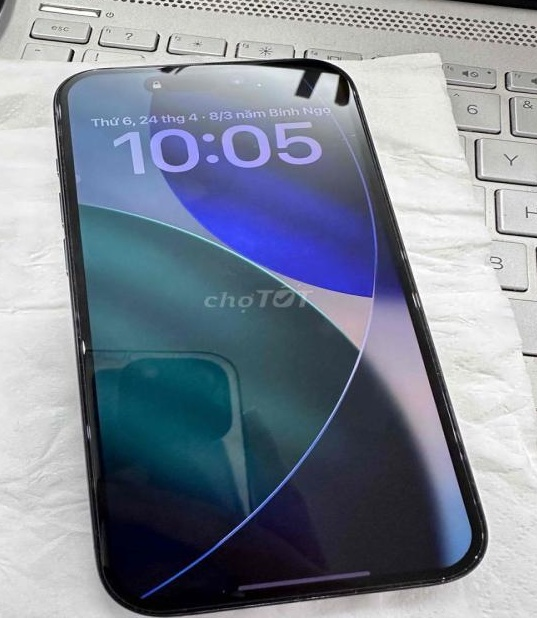scratch: (198, 575, 470, 613), (46, 125, 80, 295), (437, 387, 468, 464), (63, 307, 85, 329), (462, 548, 483, 571), (54, 96, 69, 123), (78, 420, 94, 442), (393, 245, 411, 264), (409, 290, 425, 310), (76, 335, 89, 359)
